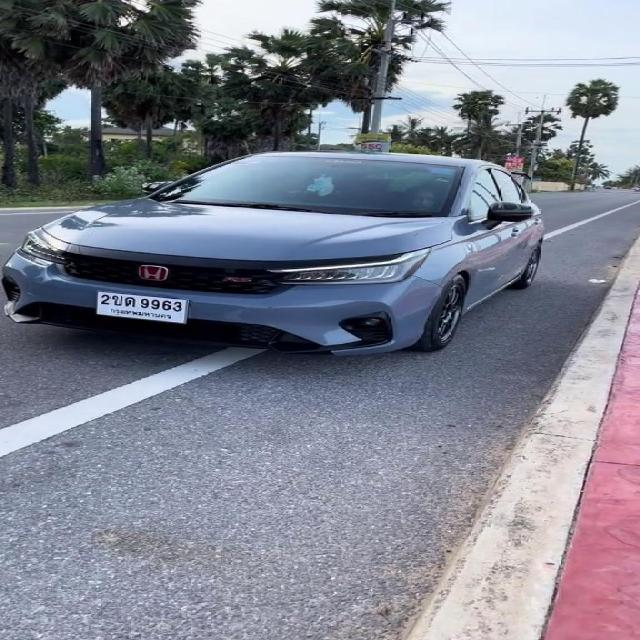Hatchback: (0, 152, 543, 356)
